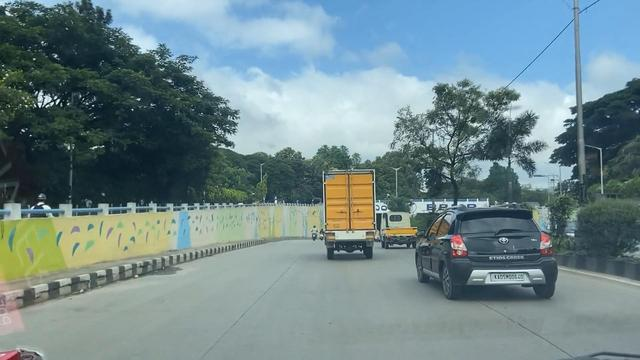HMV: (318, 172, 381, 258)
LMV: (414, 210, 546, 296)
